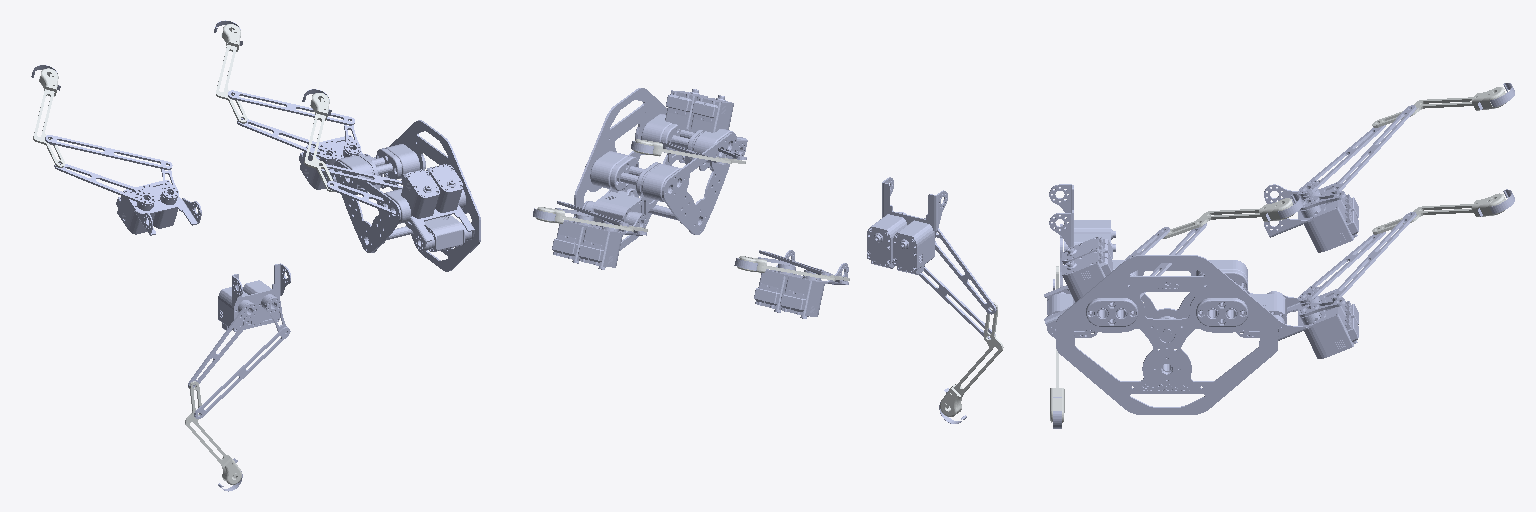
--- What the picture shows (computed from the rendered views, not written in the file) ---
The picture shows the robot from 3 angles, left to right: view 1: azimuth 30°, elevation 25°; view 2: azimuth 150°, elevation 25°; view 3: azimuth 270°, elevation 25°; orthographic projection.
Robot: stoch_two__abduction_spring_urdf — 27 links, 26 joints (11 revolute, 11 continuous, 4 prismatic); root link base_link; default pose: joints at zero except 3 at the middle of their limits (motor_front_left_abd_joint = -1.99, motor_front_right_abd_joint = -1.99, motor_back_left_abd_joint = -1.99).
Links seen in each view (by area): view 1: front_body_link, front_right_abd_link, back_left_abd_link, back_right_abd_link, br_lower_hip_link, front_left_abd_link, br_lower_knee_link, bl_lower_knee_link, bl_lower_hip_link, fr_lower_hip_link, fl_lower_hip_link, br_upper_hip_link (+5 smaller); view 2: front_body_link, back_right_abd_link, back_left_abd_link, front_left_abd_link, front_right_abd_link, br_lower_hip_link, br_upper_hip_link, br_lower_knee_link, fl_lower_hip_link, fr_lower_hip_link, bl_lower_hip_link; view 3: front_body_link, back_left_abd_link, front_left_abd_link, front_right_abd_link, back_right_abd_link, fr_lower_hip_link, bl_lower_hip_link, fl_lower_hip_link, fl_lower_knee_link, bl_lower_knee_link, fl_upper_hip_link, bl_upper_hip_link (+1 smaller).
Boxes of the visible links, <box> form: front_body_link: <box>331,120,480,271</box>; front_right_abd_link: <box>401,164,474,251</box>; back_left_abd_link: <box>116,180,201,235</box>; back_right_abd_link: <box>218,263,290,331</box>; br_lower_hip_link: <box>185,381,241,484</box>; front_left_abd_link: <box>299,135,372,189</box>; br_lower_knee_link: <box>194,327,290,418</box>; bl_lower_knee_link: <box>45,135,172,169</box>; bl_lower_hip_link: <box>33,68,64,167</box>; fr_lower_hip_link: <box>304,93,334,191</box>; fl_lower_hip_link: <box>216,24,247,123</box>; br_upper_hip_link: <box>188,303,257,387</box>; front_body_link: <box>574,88,741,250</box>; back_right_abd_link: <box>867,177,947,274</box>; back_left_abd_link: <box>754,250,848,318</box>; front_left_abd_link: <box>552,201,646,269</box>; front_right_abd_link: <box>665,89,747,159</box>; br_lower_hip_link: <box>940,302,1003,416</box>; br_upper_hip_link: <box>924,218,996,314</box>; br_lower_knee_link: <box>919,267,995,338</box>; fl_lower_hip_link: <box>535,207,647,231</box>; fr_lower_hip_link: <box>633,139,745,163</box>; bl_lower_hip_link: <box>737,256,849,280</box>; front_body_link: <box>1047,255,1286,414</box>; back_left_abd_link: <box>1264,182,1358,252</box>; front_left_abd_link: <box>1267,289,1358,358</box>; front_right_abd_link: <box>1044,237,1112,338</box>; back_right_abd_link: <box>1049,184,1115,251</box>; fr_lower_hip_link: <box>1163,198,1293,238</box>; bl_lower_hip_link: <box>1372,87,1505,127</box>; fl_lower_hip_link: <box>1372,193,1505,234</box>; fl_lower_knee_link: <box>1331,212,1416,300</box>; bl_lower_knee_link: <box>1331,105,1416,193</box>; fl_upper_hip_link: <box>1298,232,1385,302</box>; bl_upper_hip_link: <box>1298,125,1385,196</box>.
Size in the robot's own frame: 0.4437 by 0.5057 by 0.4049 metres.
Meshes: 27 distinct files referenced, 25 mesh visuals loaded (25 binary STL); not drawn: 2 (reference not matched to a file when rendering).

The robot description file, URDF, robot "stoch_two__abduction_spring_urdf":
<?xml version="1.0" encoding="utf-8"?>
<!-- This URDF was automatically created by SolidWorks to URDF Exporter! Originally created by Stephen Brawner ([email redacted]) 
     Commit Version: 1.5.1-0-g916b5db  Build Version: 1.5.7152.31018
     For more information, please see http://wiki.ros.org/sw_urdf_exporter -->
<robot
  name="stoch_two__abduction_spring_urdf">
  <link
    name="base_link">
    <inertial>
      <origin
        xyz="-0.000129067991736851 -0.000342158297660957 0.0093408485666523"
        rpy="0 0 0" />
      <mass
        value="0.259739448171724" />
      <inertia
        ixx="5.74948095182276E-05"
        ixy="7.54633920037895E-09"
        ixz="1.07903151513999E-08"
        iyy="0.000116396536611965"
        iyz="-1.12033093129272E-06"
        izz="0.0001141289931923" />
    </inertial>
    <visual>
      <origin
        xyz="0 0 0"
        rpy="0 0 0" />
      <geometry>
        <mesh
          filename="package://stoch_two__abduction_spring_urdf/meshes/base_link.STL" />
      </geometry>
      <material
        name="">
        <color
          rgba="0.501960784313725 0.501960784313725 0.501960784313725 1" />
      </material>
    </visual>
    <collision>
      <origin
        xyz="0 0 0"
        rpy="0 0 0" />
      <geometry>
        <mesh
          filename="package://stoch_two__abduction_spring_urdf/meshes/base_link.STL" />
      </geometry>
    </collision>
  </link>
  <link
    name="front_body_link">
    <inertial>
      <origin
        xyz="0.140932267535982 3.08694714012441E-07 0.0200437153813344"
        rpy="0 0 0" />
      <mass
        value="0.418808537136945" />
      <inertia
        ixx="0.000463777908240491"
        ixy="-3.33113572867368E-11"
        ixz="-4.80950874454111E-09"
        iyy="0.000201821646265994"
        iyz="1.27241620570117E-08"
        izz="0.000326752262396329" />
    </inertial>
    <visual>
      <origin
        xyz="0 0 0"
        rpy="0 0 0" />
      <geometry>
        <mesh
          filename="package://stoch_two__abduction_spring_urdf/meshes/front_body_link.STL" />
      </geometry>
      <material
        name="">
        <color
          rgba="0.792156862745098 0.819607843137255 0.933333333333333 1" />
      </material>
    </visual>
    <collision>
      <origin
        xyz="0 0 0"
        rpy="0 0 0" />
      <geometry>
        <mesh
          filename="package://stoch_two__abduction_spring_urdf/meshes/front_body_link.STL" />
      </geometry>
    </collision>
  </link>
  <joint
    name="motor_front_body_spine_joint"
    type="continuous">
    <origin
      xyz="0 0 0"
      rpy="0 0 0" />
    <parent
      link="base_link" />
    <child
      link="front_body_link" />
    <axis
      xyz="-1 0 0" />
    <limit
      lower="0"
      upper="0"
      effort="0"
      velocity="0" />
  </joint>
  <link
    name="front_left_abd_link">
    <inertial>
      <origin
        xyz="-0.00110882035358037 -0.0327154340942827 -0.0480929598391266"
        rpy="0 0 0" />
      <mass
        value="0.124373484679103" />
      <inertia
        ixx="3.84547212168369E-05"
        ixy="-7.54990169891938E-09"
        ixz="-1.07962338546307E-08"
        iyy="3.84649558618675E-05"
        iyz="-1.6180589577321E-06"
        izz="2.92738421633406E-05" />
    </inertial>
    <visual>
      <origin
        xyz="0 0 0"
        rpy="0 0 0" />
      <geometry>
        <mesh
          filename="package://stoch_two__abduction_spring_urdf/meshes/front_left_abd_link.STL" />
      </geometry>
      <material
        name="">
        <color
          rgba="0.792156862745098 0.819607843137255 0.933333333333333 1" />
      </material>
    </visual>
    <collision>
      <origin
        xyz="0 0 0"
        rpy="0 0 0" />
      <geometry>
        <mesh
          filename="package://stoch_two__abduction_spring_urdf/meshes/front_left_abd_link.STL" />
      </geometry>
    </collision>
  </link>
  <joint
    name="motor_front_left_abd_joint"
    type="revolute">
    <origin
      xyz="0.135197356097679 0.115117519222437 0.00739293061201084"
      rpy="0 0 0" />
    <parent
      link="front_body_link" />
    <child
      link="front_left_abd_link" />
    <axis
      xyz="-1 0 0" />
    <limit
      lower="-0.06"
      upper="-3.92"
      effort="100"
      velocity="100" />
  </joint>
  <link
    name="fl_upper_hip_link">
    <inertial>
      <origin
        xyz="-0.0383446494113472 -5.55111512312578E-17 -0.0383318704358328"
        rpy="0 0 0" />
      <mass
        value="0.0117074826445671" />
      <inertia
        ixx="9.72918703579988E-06"
        ixy="-1.04141895101897E-20"
        ixz="-9.27307252501739E-06"
        iyy="1.94470211761586E-05"
        iyz="-1.02230524891218E-20"
        izz="9.73539536432561E-06" />
    </inertial>
    <visual>
      <origin
        xyz="0 0 0"
        rpy="0 0 0" />
      <geometry>
        <mesh
          filename="package://stoch_two__abduction_spring_urdf/meshes/fl_upper_hip_link.STL" />
      </geometry>
      <material
        name="">
        <color
          rgba="0.792156862745098 0.819607843137255 0.933333333333333 1" />
      </material>
    </visual>
    <collision>
      <origin
        xyz="0 0 0"
        rpy="0 0 0" />
      <geometry>
        <mesh
          filename="package://stoch_two__abduction_spring_urdf/meshes/fl_upper_hip_link.STL" />
      </geometry>
    </collision>
  </link>
  <joint
    name="motor_fl_upper_hip_joint"
    type="revolute">
    <origin
      xyz="-0.0186499999340881 -0.00149999933174336 -0.0384999947870973"
      rpy="0 0 0" />
    <parent
      link="front_left_abd_link" />
    <child
      link="fl_upper_hip_link" />
    <axis
      xyz="0 -1 0" />
    <limit
      lower="-0.78"
      upper="0.78"
      effort="100"
      velocity="100" />
  </joint>
  <link
    name="fl_lower_hip_link">
    <inertial>
      <origin
        xyz="0.0408620276127472 0.000114318215220024 -0.10942942192865"
        rpy="0 0 0" />
      <mass
        value="0.0304267158746561" />
      <inertia
        ixx="2.23503755194058E-05"
        ixy="-3.16887576759191E-11"
        ixz="9.84049282914086E-06"
        iyy="2.83096143283062E-05"
        iyz="2.31897934032399E-09"
        izz="6.72397413422221E-06" />
    </inertial>
    <visual>
      <origin
        xyz="0 0 0"
        rpy="0 0 0" />
      <geometry>
        <mesh
          filename="package://stoch_two__abduction_spring_urdf/meshes/fl_lower_hip_link.STL" />
      </geometry>
      <material
        name="">
        <color
          rgba="0.898039215686275 0.917647058823529 0.929411764705882 1" />
      </material>
    </visual>
    <collision>
      <origin
        xyz="0 0 0"
        rpy="0 0 0" />
      <geometry>
        <mesh
          filename="package://stoch_two__abduction_spring_urdf/meshes/fl_lower_hip_link.STL" />
      </geometry>
    </collision>
  </link>
  <joint
    name="fl_lower_hip_joint"
    type="continuous">
    <origin
      xyz="-0.0848672347682571 0.00450000000000043 -0.0848383902651951"
      rpy="0 0 0" />
    <parent
      link="fl_upper_hip_link" />
    <child
      link="fl_lower_hip_link" />
    <axis
      xyz="0 -1 0" />
  </joint>
  <link
    name="spring_fl">
    <inertial>
      <origin
        xyz="0.0008375 5.5511E-17 -0.021195"
        rpy="0 0 0" />
      <mass
        value="0.02" />
      <inertia
        ixx="3.8646E-08"
        ixy="-5.4205E-23"
        ixz="-1.0551E-08"
        iyy="5.6208E-08"
        iyz="3.4007E-23"
        izz="2.0559E-08" />
    </inertial>
    <visual>
      <origin
        xyz="0 0 0"
        rpy="0 0 0" />
      <geometry>
        <mesh
          filename="package://stoch_two__abduction_spring_urdf/meshes/spring_fl.STL" />
      </geometry>
      <material
        name="">
        <color
          rgba="0.79216 0.81961 0.93333 1" />
      </material>
    </visual>
    <collision>
      <origin
        xyz="0 0 0"
        rpy="0 0 0" />
      <geometry>
        <mesh
          filename="package://stoch_two__abduction_spring_urdf/meshes/spring_fl.STL" />
      </geometry>
    </collision>
  </link>
  <joint
    name="prismatic_fl"
    type="prismatic">
    <origin
      xyz="0.059295 0.0002 -0.12141"
      rpy="0 0 0" />
    <parent
      link="fl_lower_hip_link" />
    <child
      link="spring_fl" />
    <axis
      xyz="-0.54606 0 0.83775" />
    <limit
      lower="-0.001"
      upper="0.001"
      effort="100"
      velocity="100" />
    <dynamics
      damping="500" />
  </joint>
  <link
    name="fl_upper_knee_link">
    <inertial>
      <origin
        xyz="0.00500741448929856 1.38777878078145E-17 -0.0137551107327415"
        rpy="0 0 0" />
      <mass
        value="0.00159686614944862" />
      <inertia
        ixx="4.10803441978608E-07"
        ixy="-6.34539643451113E-23"
        ixz="1.31607832982323E-07"
        iyy="5.05602172304821E-07"
        iyz="1.69033138911796E-23"
        izz="9.71940295503859E-08" />
    </inertial>
    <visual>
      <origin
        xyz="0 0 0"
        rpy="0 0 0" />
      <geometry>
        <mesh
          filename="package://stoch_two__abduction_spring_urdf/meshes/fl_upper_knee_link.STL" />
      </geometry>
      <material
        name="">
        <color
          rgba="0.792156862745098 0.819607843137255 0.933333333333333 1" />
      </material>
    </visual>
    <collision>
      <origin
        xyz="0 0 0"
        rpy="0 0 0" />
      <geometry>
        <mesh
          filename="package://stoch_two__abduction_spring_urdf/meshes/fl_upper_knee_link.STL" />
      </geometry>
    </collision>
  </link>
  <joint
    name="motor_fl_upper_knee_joint"
    type="revolute">
    <origin
      xyz="0.0163500000000081 -0.00149999933174279 -0.0384999938972361"
      rpy="0 0 0" />
    <parent
      link="front_left_abd_link" />
    <child
      link="fl_upper_knee_link" />
    <axis
      xyz="0 -1 0" />
    <limit
      lower="-1.22"
      upper="1.22"
      effort="100"
      velocity="100" />
  </joint>
  <link
    name="fl_lower_knee_link">
    <inertial>
      <origin
        xyz="-0.0641706601867951 -5.55111512312578E-17 -0.0434554527210436"
        rpy="0 0 0" />
      <mass
        value="0.0317424901804665" />
      <inertia
        ixx="2.47046438626632E-05"
        ixy="-5.72073776083319E-20"
        ixz="-3.54901292302268E-05"
        iyy="7.77365346235803E-05"
        iyz="-3.85353720585192E-20"
        izz="5.30795044961879E-05" />
    </inertial>
    <visual>
      <origin
        xyz="0 0 0"
        rpy="0 0 0" />
      <geometry>
        <mesh
          filename="package://stoch_two__abduction_spring_urdf/meshes/fl_lower_knee_link.STL" />
      </geometry>
      <material
        name="">
        <color
          rgba="0.792156862745098 0.819607843137255 0.933333333333333 1" />
      </material>
    </visual>
    <collision>
      <origin
        xyz="0 0 0"
        rpy="0 0 0" />
      <geometry>
        <mesh
          filename="package://stoch_two__abduction_spring_urdf/meshes/fl_lower_knee_link.STL" />
      </geometry>
    </collision>
  </link>
  <joint
    name="fl_lower_knee_joint"
    type="continuous">
    <origin
      xyz="0.0136831308327143 0.00800000000000324 -0.0375868584829169"
      rpy="0 0 0" />
    <parent
      link="fl_upper_knee_link" />
    <child
      link="fl_lower_knee_link" />
    <axis
      xyz="0 1 0" />
  </joint>
  <link
    name="front_right_abd_link">
    <inertial>
      <origin
        xyz="-0.00119117964642199 0.0327154156421657 -0.0480929723912521"
        rpy="0 0 0" />
      <mass
        value="0.124373484679129" />
      <inertia
        ixx="3.84547212168473E-05"
        ixy="-7.5498975598577E-09"
        ixz="1.07962367477864E-08"
        iyy="3.84649571034963E-05"
        iyz="1.61805543131316E-06"
        izz="2.92738409217309E-05" />
    </inertial>
    <visual>
      <origin
        xyz="0 0 0"
        rpy="0 0 0" />
      <geometry>
        <mesh
          filename="package://stoch_two__abduction_spring_urdf/meshes/front_right_abd_link.STL" />
      </geometry>
      <material
        name="">
        <color
          rgba="0.792156862745098 0.819607843137255 0.933333333333333 1" />
      </material>
    </visual>
    <collision>
      <origin
        xyz="0 0 0"
        rpy="0 0 0" />
      <geometry>
        <mesh
          filename="package://stoch_two__abduction_spring_urdf/meshes/front_right_abd_link.STL" />
      </geometry>
    </collision>
  </link>
  <joint
    name="motor_front_right_abd_joint"
    type="revolute">
    <origin
      xyz="0.135197356230924 -0.115117528861792 0.00739294578802131"
      rpy="0 0 0" />
    <parent
      link="front_body_link" />
    <child
      link="front_right_abd_link" />
    <axis
      xyz="-1 0 0" />
    <limit
      lower="-0.06"
      upper="-3.92"
      effort="100"
      velocity="100" />
  </joint>
  <link
    name="fr_upper_hip_link">
    <inertial>
      <origin
        xyz="-0.0383446477630624 -1.47070194772558E-08 -0.0383318720846643"
        rpy="0 0 0" />
      <mass
        value="0.0117074826445671" />
      <inertia
        ixx="9.72918783329113E-06"
        ixy="-3.55785541198547E-12"
        ixz="-9.27307252528368E-06"
        iyy="1.94470211761573E-05"
        iyz="-3.72611807838062E-12"
        izz="9.73539456683589E-06" />
    </inertial>
    <visual>
      <origin
        xyz="0 0 0"
        rpy="0 0 0" />
      <geometry>
        <mesh
          filename="package://stoch_two__abduction_spring_urdf/meshes/fr_upper_hip_link.STL" />
      </geometry>
      <material
        name="">
        <color
          rgba="0.792156862745098 0.819607843137255 0.933333333333333 1" />
      </material>
    </visual>
    <collision>
      <origin
        xyz="0 0 0"
        rpy="0 0 0" />
      <geometry>
        <mesh
          filename="package://stoch_two__abduction_spring_urdf/meshes/fr_upper_hip_link.STL" />
      </geometry>
    </collision>
  </link>
  <joint
    name="motor_fr_upper_hip_joint"
    type="revolute">
    <origin
      xyz="-0.0186500000000073 0.00149998633962198 -0.0384999944727477"
      rpy="0 0 0" />
    <parent
      link="front_right_abd_link" />
    <child
      link="fr_upper_hip_link" />
    <axis
      xyz="0 -0.999999999999926 0" />
    <limit
      lower="-0.78"
      upper="0.78"
      effort="100"
      velocity="100" />
  </joint>
  <link
    name="fr_lower_hip_link">
    <inertial>
      <origin
        xyz="0.0408624005500485 0.000114276229826876 -0.109429282713292"
        rpy="0 0 0" />
      <mass
        value="0.0304267158746472" />
      <inertia
        ixx="2.23503084460548E-05"
        ixy="-2.79210797378881E-11"
        ixz="9.84054608399388E-06"
        iyy="2.83096143300881E-05"
        iyz="2.31069736774626E-09"
        izz="6.72404120579568E-06" />
    </inertial>
    <visual>
      <origin
        xyz="0 0 0"
        rpy="0 0 0" />
      <geometry>
        <mesh
          filename="package://stoch_two__abduction_spring_urdf/meshes/fr_lower_hip_link.STL" />
      </geometry>
      <material
        name="">
        <color
          rgba="0.898039215686275 0.917647058823529 0.929411764705882 1" />
      </material>
    </visual>
    <collision>
      <origin
        xyz="0 0 0"
        rpy="0 0 0" />
      <geometry>
        <mesh
          filename="package://stoch_two__abduction_spring_urdf/meshes/fr_lower_hip_link.STL" />
      </geometry>
    </collision>
  </link>
  <joint
    name="fr_lower_hip_joint"
    type="continuous">
    <origin
      xyz="-0.0848672311201743 -0.00450003255045557 -0.0848383921879697"
      rpy="0 0 0" />
    <parent
      link="fr_upper_hip_link" />
    <child
      link="fr_lower_hip_link" />
    <axis
      xyz="0 -0.999999999999926 0" />
  </joint>
  <link
    name="spring_fr">
    <inertial>
      <origin
        xyz="0.00083757 -8.1321E-09 -0.021195"
        rpy="0 0 0" />
      <mass
        value="0.02" />
      <inertia
        ixx="3.8646E-08"
        ixy="-4.0482E-15"
        ixz="-1.0551E-08"
        iyy="5.6208E-08"
        iyz="-1.3678E-14"
        izz="2.0559E-08" />
    </inertial>
    <visual>
      <origin
        xyz="0 0 0"
        rpy="0 0 0" />
      <geometry>
        <mesh
          filename="package://stoch_two__abduction_spring_urdf/meshes/spring_fr.STL" />
      </geometry>
      <material
        name="">
        <color
          rgba="0.79216 0.81961 0.93333 1" />
      </material>
    </visual>
    <collision>
      <origin
        xyz="0 0 0"
        rpy="0 0 0" />
      <geometry>
        <mesh
          filename="package://stoch_two__abduction_spring_urdf/meshes/spring_fr.STL" />
      </geometry>
    </collision>
  </link>
  <joint
    name="prismatic_fr"
    type="prismatic">
    <origin
      xyz="0.059295 0.00019995 -0.12141"
      rpy="0 0 0" />
    <parent
      link="fr_lower_hip_link" />
    <child
      link="spring_fr" />
    <axis
      xyz="-0.54606 0 0.83774" />
    <limit
      lower="-0.001"
      upper="0.001"
      effort="100"
      velocity="100" />
    <dynamics
      damping="500" />
  </joint>
  <link
    name="fr_upper_knee_link">
    <inertial>
      <origin
        xyz="0.00500745839832759 -5.2774995346061E-09 -0.0137550947480056"
        rpy="0 0 0" />
      <mass
        value="0.00159686614944863" />
      <inertia
        ixx="4.10802601738561E-07"
        ixy="5.04951484061588E-14"
        ixz="1.31608834083366E-07"
        iyy="5.05602172304777E-07"
        iyz="-1.56696074365953E-13"
        izz="9.7194869790509E-08" />
    </inertial>
    <visual>
      <origin
        xyz="0 0 0"
        rpy="0 0 0" />
      <geometry>
        <mesh
          filename="package://stoch_two__abduction_spring_urdf/meshes/fr_upper_knee_link.STL" />
      </geometry>
      <material
        name="">
        <color
          rgba="0.792156862745098 0.819607843137255 0.933333333333333 1" />
      </material>
    </visual>
    <collision>
      <origin
        xyz="0 0 0"
        rpy="0 0 0" />
      <geometry>
        <mesh
          filename="package://stoch_two__abduction_spring_urdf/meshes/fr_upper_knee_link.STL" />
      </geometry>
    </collision>
  </link>
  <joint
    name="motor_fr_upper_knee_joint"
    type="revolute">
    <origin
      xyz="0.0163499999340886 0.00149998522847775 -0.0384999953626084"
      rpy="0 0 0" />
    <parent
      link="front_right_abd_link" />
    <child
      link="fr_upper_knee_link" />
    <axis
      xyz="0 -0.999999999999926 0" />
    <limit
      lower="-1.22"
      upper="1.22"
      effort="100"
      velocity="100" />
  </joint>
  <link
    name="fr_lower_knee_link">
    <inertial>
      <origin
        xyz="-0.0641706507751588 -1.66728200134969E-08 -0.0434554666191993"
        rpy="0 0 0" />
      <mass
        value="0.0317424901804665" />
      <inertia
        ixx="2.47046592356554E-05"
        ixy="-1.36167135359111E-11"
        ixz="-3.54901353756828E-05"
        iyy="7.77365346235767E-05"
        iyz="-9.46031681848094E-12"
        izz="5.30794891231993E-05" />
    </inertial>
    <visual>
      <origin
        xyz="0 0 0"
        rpy="0 0 0" />
      <geometry>
        <mesh
          filename="package://stoch_two__abduction_spring_urdf/meshes/fr_lower_knee_link.STL" />
      </geometry>
      <material
        name="">
        <color
          rgba="0.792156862745098 0.819607843137255 0.933333333333333 1" />
      </material>
    </visual>
    <collision>
      <origin
        xyz="0 0 0"
        rpy="0 0 0" />
      <geometry>
        <mesh
          filename="package://stoch_two__abduction_spring_urdf/meshes/fr_lower_knee_link.STL" />
      </geometry>
    </collision>
  </link>
  <joint
    name="fr_lower_knee_joint"
    type="continuous">
    <origin
      xyz="0.0136832508173868 -0.00800001442115761 -0.0375868117340345"
      rpy="0 0 0" />
    <parent
      link="fr_upper_knee_link" />
    <child
      link="fr_lower_knee_link" />
    <axis
      xyz="0 0.999999999999926 0" />
  </joint>
  <link
    name="back_body_link">
    <inertial>
      <origin
        xyz="-0.140956896502492 -3.14350248021398E-07 0.0195799916260589"
        rpy="0 0 0" />
      <mass
        value="0.422530260961795" />
      <inertia
        ixx="0.000464409562979019"
        ixy="-3.33117865270045E-11"
        ixz="4.80907890030873E-09"
        iyy="0.00020214515751904"
        iyz="8.84527093913057E-09"
        izz="0.000327075773659621" />
    </inertial>
    <visual>
      <origin
        xyz="0 0 0"
        rpy="0 0 0" />
      <geometry>
        <mesh
          filename="package://stoch_two__abduction_spring_urdf/meshes/back_body_link.STL" />
      </geometry>
      <material
        name="">
        <color
          rgba="0.792156862745098 0.819607843137255 0.933333333333333 1" />
      </material>
    </visual>
    <collision>
      <origin
        xyz="0 0 0"
        rpy="0 0 0" />
      <geometry>
        <mesh
          filename="package://stoch_two__abduction_spring_urdf/meshes/back_body_link.STL" />
      </geometry>
    </collision>
  </link>
  <joint
    name="motor_back_body_spine_joint"
    type="continuous">
    <origin
      xyz="0 0 0"
      rpy="0 0 0" />
    <parent
      link="base_link" />
    <child
      link="back_body_link" />
    <axis
      xyz="-1 0 0" />
    <limit
      lower="0"
      upper="0"
      effort="0"
      velocity="0" />
  </joint>
  <link
    name="back_left_abd_link">
    <inertial>
      <origin
        xyz="-0.00140882033464229 -0.0327154464911706 -0.0480929514066434"
        rpy="0 0 0" />
      <mass
        value="0.124373484679103" />
      <inertia
        ixx="3.84547212168457E-05"
        ixy="-7.54990448759607E-09"
        ixz="-1.07962309723074E-08"
        iyy="3.8464955027741E-05"
        iyz="-1.61806132676973E-06"
        izz="2.92738429974584E-05" />
    </inertial>
    <visual>
      <origin
        xyz="0 0 0"
        rpy="0 0 0" />
      <geometry>
        <mesh
          filename="package://stoch_two__abduction_spring_urdf/meshes/back_left_abd_link.STL" />
      </geometry>
      <material
        name="">
        <color
          rgba="0.792156862745098 0.819607843137255 0.933333333333333 1" />
      </material>
    </visual>
    <collision>
      <origin
        xyz="0 0 0"
        rpy="0 0 0" />
      <geometry>
        <mesh
          filename="package://stoch_two__abduction_spring_urdf/meshes/back_left_abd_link.STL" />
      </geometry>
    </collision>
  </link>
  <joint
    name="motor_back_left_abd_joint"
    type="revolute">
    <origin
      xyz="-0.13530264390232 0.115117522545566 0.00739298969795425"
      rpy="0 0 0" />
    <parent
      link="back_body_link" />
    <child
      link="back_left_abd_link" />
    <axis
      xyz="-1 0 0" />
    <limit
      lower="-0.06"
      upper="-3.92"
      effort="100"
      velocity="100" />
  </joint>
  <link
    name="bl_upper_hip_link">
    <inertial>
      <origin
        xyz="-0.0383381336713793 -9.90399671996212E-09 -0.0383383872402577"
        rpy="0 0 0" />
      <mass
        value="0.0117074826445671" />
      <inertia
        ixx="9.73233928457207E-06"
        ixy="-2.39577849174437E-12"
        ixz="-9.27307304445245E-06"
        iyy="1.9447021176158E-05"
        iyz="-2.50937347050737E-12"
        izz="9.7322431155541E-06" />
    </inertial>
    <visual>
      <origin
        xyz="0 0 0"
        rpy="0 0 0" />
      <geometry>
        <mesh
          filename="package://stoch_two__abduction_spring_urdf/meshes/bl_upper_hip_link.STL" />
      </geometry>
      <material
        name="">
        <color
          rgba="0.792156862745098 0.819607843137255 0.933333333333333 1" />
      </material>
    </visual>
    <collision>
      <origin
        xyz="0 0 0"
        rpy="0 0 0" />
      <geometry>
        <mesh
          filename="package://stoch_two__abduction_spring_urdf/meshes/bl_upper_hip_link.STL" />
      </geometry>
    </collision>
  </link>
  <joint
    name="motor_bl_upper_hip_joint"
    type="revolute">
    <origin
      xyz="-0.01895 -0.0015 -0.0385"
      rpy="0 0 0" />
    <parent
      link="back_left_abd_link" />
    <child
      link="bl_upper_hip_link" />
    <axis
      xyz="0 -1 0" />
    <limit
      lower="-0.78"
      upper="0.78"
      effort="100"
      velocity="100" />
  </joint>
  <link
    name="bl_lower_hip_link">
    <inertial>
      <origin
        xyz="0.0408428937519842 0.000114290031589581 -0.109436564825589"
        rpy="0 0 0" />
      <mass
        value="0.030426715875105" />
      <inertia
        ixx="2.23538161722701E-05"
        ixy="-2.8751028169547E-11"
        ixz="9.83776002245928E-06"
        iyy="2.83096143292105E-05"
        iyz="2.31342582708908E-09"
        izz="6.72053348022394E-06" />
    </inertial>
    <visual>
      <origin
        xyz="0 0 0"
        rpy="0 0 0" />
      <geometry>
        <mesh
          filename="package://stoch_two__abduction_spring_urdf/meshes/bl_lower_hip_link.STL" />
      </geometry>
      <material
        name="">
        <color
          rgba="0.898039215686275 0.917647058823529 0.929411764705882 1" />
      </material>
    </visual>
    <collision>
      <origin
        xyz="0 0 0"
        rpy="0 0 0" />
      <geometry>
        <mesh
          filename="package://stoch_two__abduction_spring_urdf/meshes/bl_lower_hip_link.STL" />
      </geometry>
    </collision>
  </link>
  <joint
    name="bl_lower_hip_joint"
    type="continuous">
    <origin
      xyz="-0.0848528137451117 0.00449997807988266 -0.0848528149021467"
      rpy="0 0 0" />
    <parent
      link="bl_upper_hip_link" />
    <child
      link="bl_lower_hip_link" />
    <axis
      xyz="0 -0.999999999999967 0" />
  </joint>
  <link
    name="spring_bl">
    <inertial>
      <origin
        xyz="0.00083379 -5.4632E-09 -0.021195"
        rpy="0 0 0" />
      <mass
        value="0.02" />
      <inertia
        ixx="3.8642E-08"
        ixy="-2.7204E-15"
        ixz="-1.0554E-08"
        iyy="5.6208E-08"
        iyz="-9.1877E-15"
        izz="2.0563E-08" />
    </inertial>
    <visual>
      <origin
        xyz="0 0 0"
        rpy="0 0 0" />
      <geometry>
        <mesh
          filename="package://stoch_two__abduction_spring_urdf/meshes/spring_bl.STL" />
      </geometry>
      <material
        name="">
        <color
          rgba="0.79216 0.81961 0.93333 1" />
      </material>
    </visual>
    <collision>
      <origin
        xyz="0 0 0"
        rpy="0 0 0" />
      <geometry>
        <mesh
          filename="package://stoch_two__abduction_spring_urdf/meshes/spring_bl.STL" />
      </geometry>
    </collision>
  </link>
  <joint
    name="prismatic_bl"
    type="prismatic">
    <origin
      xyz="0.059274 0.00019997 -0.12142"
      rpy="0 0 0" />
    <parent
      link="bl_lower_hip_link" />
    <child
      link="spring_bl" />
    <axis
      xyz="-0.54591 0 0.83784" />
    <limit
      lower="-0.001"
      upper="0.001"
      effort="100"
      velocity="100" />
    <dynamics
      damping="500" />
  </joint>
  <link
    name="bl_upper_knee_link">
    <inertial>
      <origin
        xyz="0.00500656360670479 -3.54259542534319E-09 -0.013755420458482"
        rpy="0 0 0" />
      <mass
        value="0.00159686614944863" />
      <inertia
        ixx="4.10819722952596E-07"
        ixy="3.38623857879335E-14"
        ixz="1.31588432510409E-07"
        iyy="5.05602172304798E-07"
        iyz="-1.05196227990405E-13"
        izz="9.71777485764293E-08" />
    </inertial>
    <visual>
      <origin
        xyz="0 0 0"
        rpy="0 0 0" />
      <geometry>
        <mesh
          filename="package://stoch_two__abduction_spring_urdf/meshes/bl_upper_knee_link.STL" />
      </geometry>
      <material
        name="">
        <color
          rgba="0.792156862745098 0.819607843137255 0.933333333333333 1" />
      </material>
    </visual>
    <collision>
      <origin
        xyz="0 0 0"
        rpy="0 0 0" />
      <geometry>
        <mesh
          filename="package://stoch_two__abduction_spring_urdf/meshes/bl_upper_knee_link.STL" />
      </geometry>
    </collision>
  </link>
  <joint
    name="motor_bl_upper_knee_joint"
    type="revolute">
    <origin
      xyz="0.0160500000008828 -0.00150000924591775 -0.0384999935106098"
      rpy="0 0 0" />
    <parent
      link="back_left_abd_link" />
    <child
      link="bl_upper_knee_link" />
    <axis
      xyz="0 -0.999999999999967 0" />
    <limit
      lower="-1.22"
      upper="1.22"
      effort="100"
      velocity="100" />
  </joint>
  <link
    name="bl_lower_knee_link">
    <inertial>
      <origin
        xyz="-0.0641657542942606 -1.12397455370727E-08 -0.043462696371123"
        rpy="0 0 0" />
      <mass
        value="0.0317424901804665" />
      <inertia
        ixx="2.47126568549893E-05"
        ixy="-9.17917504560525E-12"
        ixz="-3.54933314315602E-05"
        iyy="7.77365346235786E-05"
        iyz="-6.37801322514159E-12"
        izz="5.30714915038632E-05" />
    </inertial>
    <visual>
      <origin
        xyz="0 0 0"
        rpy="0 0 0" />
      <geometry>
        <mesh
          filename="package://stoch_two__abduction_spring_urdf/meshes/bl_lower_knee_link.STL" />
      </geometry>
      <material
        name="">
        <color
          rgba="0.792156862745098 0.819607843137255 0.933333333333333 1" />
      </material>
    </visual>
    <collision>
      <origin
        xyz="0 0 0"
        rpy="0 0 0" />
      <geometry>
        <mesh
          filename="package://stoch_two__abduction_spring_urdf/meshes/bl_lower_knee_link.STL" />
      </geometry>
    </collision>
  </link>
  <joint
    name="bl_lower_knee_joint"
    type="continuous">
    <origin
      xyz="0.0136808057283992 0.00799999031959546 -0.0375877068934536"
      rpy="0 0 0" />
    <parent
      link="bl_upper_knee_link" />
    <child
      link="bl_lower_knee_link" />
    <axis
      xyz="0 0.999999999999967 0" />
  </joint>
  <link
    name="back_right_abd_link">
    <inertial>
      <origin
        xyz="-0.00149117964641937 0.0327154464903576 -0.0480929514066434"
        rpy="0 0 0" />
      <mass
        value="0.124373484679103" />
      <inertia
        ixx="3.84547212168368E-05"
        ixy="-7.54990448164978E-09"
        ixz="1.07962319086228E-08"
        iyy="3.84649550277497E-05"
        iyz="1.61806132676348E-06"
        izz="2.92738429974583E-05" />
    </inertial>
    <visual>
      <origin
        xyz="0 0 0"
        rpy="0 0 0" />
      <geometry>
        <mesh
          filename="package://stoch_two__abduction_spring_urdf/meshes/back_right_abd_link.STL" />
      </geometry>
      <material
        name="">
        <color
          rgba="0.792156862745098 0.819607843137255 0.933333333333333 1" />
      </material>
    </visual>
    <collision>
      <origin
        xyz="0 0 0"
        rpy="0 0 0" />
      <geometry>
        <mesh
          filename="package://stoch_two__abduction_spring_urdf/meshes/back_right_abd_link.STL" />
      </geometry>
    </collision>
  </link>
  <joint
    name="motor_back_right_abd_joint"
    type="continuous">
    <origin
      xyz="-0.135302643769077 -0.115117525538681 0.00739294553027791"
      rpy="0 0 0" />
    <parent
      link="back_body_link" />
    <child
      link="back_right_abd_link" />
    <axis
      xyz="-1 0 0" />
    <limit
      lower="-0.06"
      upper="-3.92"
      effort="100"
      velocity="100" />
  </joint>
  <link
    name="br_upper_hip_link">
    <inertial>
      <origin
        xyz="-0.0383381336713765 9.90399669220654E-09 -0.0383383872402605"
        rpy="0 0 0" />
      <mass
        value="0.0117074826445671" />
      <inertia
        ixx="9.73233928457343E-06"
        ixy="2.39577849110562E-12"
        ixz="-9.27307304445247E-06"
        iyy="1.94470211761581E-05"
        iyz="2.5093734701317E-12"
        izz="9.73224311555278E-06" />
    </inertial>
    <visual>
      <origin
        xyz="0 0 0"
        rpy="0 0 0" />
      <geometry>
        <mesh
          filename="package://stoch_two__abduction_spring_urdf/meshes/br_upper_hip_link.STL" />
      </geometry>
      <material
        name="">
        <color
          rgba="0.792156862745098 0.819607843137255 0.933333333333333 1" />
      </material>
    </visual>
    <collision>
      <origin
        xyz="0 0 0"
        rpy="0 0 0" />
      <geometry>
        <mesh
          filename="package://stoch_two__abduction_spring_urdf/meshes/br_upper_hip_link.STL" />
      </geometry>
    </collision>
  </link>
  <joint
    name="motor_br_upper_hip_joint"
    type="revolute">
    <origin
      xyz="-0.0189500000000021 0.0015000129743382 -0.0384999935106054"
      rpy="0 0 0" />
    <parent
      link="back_right_abd_link" />
    <child
      link="br_upper_hip_link" />
    <axis
      xyz="0 -0.999999999999967 0" />
    <limit
      lower="-0.78"
      upper="0.78"
      effort="100"
      velocity="100" />
  </joint>
  <link
    name="br_lower_hip_link">
    <inertial>
      <origin
        xyz="0.0408428906970656 0.000114346399404774 -0.109436565906788"
        rpy="0 0 0" />
      <mass
        value="0.0304267158750394" />
      <inertia
        ixx="2.23538167215228E-05"
        ixy="-3.3815476149948E-11"
        ixz="9.83775958603362E-06"
        iyy="2.8309614326812E-05"
        iyz="2.3245437158317E-09"
        izz="6.72053293335597E-06" />
    </inertial>
    <visual>
      <origin
        xyz="0 0 0"
        rpy="0 0 0" />
      <geometry>
        <mesh
          filename="package://stoch_two__abduction_spring_urdf/meshes/br_lower_hip_link.STL" />
      </geometry>
      <material
        name="">
        <color
          rgba="0.898039215686275 0.917647058823529 0.929411764705882 1" />
      </material>
    </visual>
    <collision>
      <origin
        xyz="0 0 0"
        rpy="0 0 0" />
      <geometry>
        <mesh
          filename="package://stoch_two__abduction_spring_urdf/meshes/br_lower_hip_link.STL" />
      </geometry>
    </collision>
  </link>
  <joint
    name="br_lower_hip_joint"
    type="continuous">
    <origin
      xyz="-0.0848528137451056 -0.00449997807963978 -0.0848528149021529"
      rpy="0 0 0" />
    <parent
      link="br_upper_hip_link" />
    <child
      link="br_lower_hip_link" />
    <axis
      xyz="0 -0.999999999999967 0" />
  </joint>
  <link
    name="spring_br">
    <inertial>
      <origin
        xyz="0.00083379 5.4632E-09 -0.021195"
        rpy="0 0 0" />
      <mass
        value="0.02" />
      <inertia
        ixx="3.8642E-08"
        ixy="2.7204E-15"
        ixz="-1.0554E-08"
        iyy="5.6208E-08"
        iyz="9.1877E-15"
        izz="2.0563E-08" />
    </inertial>
    <visual>
      <origin
        xyz="0 0 0"
        rpy="0 0 0" />
      <geometry>
        <mesh
          filename="package://stoch_two__abduction_spring_urdf/meshes/spring_br.STL" />
      </geometry>
      <material
        name="">
        <color
          rgba="0.79216 0.81961 0.93333 1" />
      </material>
    </visual>
    <collision>
      <origin
        xyz="0 0 0"
        rpy="0 0 0" />
      <geometry>
        <mesh
          filename="package://stoch_two__abduction_spring_urdf/meshes/spring_br.STL" />
      </geometry>
    </collision>
  </link>
  <joint
    name="prismatic_br"
    type="prismatic">
    <origin
      xyz="0.059274 0.00020003 -0.12142"
      rpy="0 0 0" />
    <parent
      link="br_lower_hip_link" />
    <child
      link="spring_br" />
    <axis
      xyz="-0.54591 0 0.83784" />
    <limit
      lower="-0.001"
      upper="0.001"
      effort="100"
      velocity="100" />
    <dynamics
      damping="500" />
  </joint>
  <link
    name="br_upper_knee_link">
    <inertial>
      <origin
        xyz="0.00500656360669922 3.54259543922097E-09 -0.0137554204584841"
        rpy="0 0 0" />
      <mass
        value="0.00159686614944862" />
      <inertia
        ixx="4.10819722952701E-07"
        ixy="-3.38623859381081E-14"
        ixz="1.31588432510285E-07"
        iyy="5.05602172304796E-07"
        iyz="1.05196228239126E-13"
        izz="9.71777485763218E-08" />
    </inertial>
    <visual>
      <origin
        xyz="0 0 0"
        rpy="0 0 0" />
      <geometry>
        <mesh
          filename="package://stoch_two__abduction_spring_urdf/meshes/br_upper_knee_link.STL" />
      </geometry>
      <material
        name="">
        <color
          rgba="0.792156862745098 0.819607843137255 0.933333333333333 1" />
      </material>
    </visual>
    <collision>
      <origin
        xyz="0 0 0"
        rpy="0 0 0" />
      <geometry>
        <mesh
          filename="package://stoch_two__abduction_spring_urdf/meshes/br_upper_knee_link.STL" />
      </geometry>
    </collision>
  </link>
  <joint
    name="motor_br_upper_knee_joint"
    type="revolute">
    <origin
      xyz="0.0160499999340941 0.00150001297458144 -0.0384999944004666"
      rpy="0 0 0" />
    <parent
      link="back_right_abd_link" />
    <child
      link="br_upper_knee_link" />
    <axis
      xyz="0 -0.999999999999967 0" />
    <limit
      lower="-1.22"
      upper="1.22"
      effort="100"
      velocity="100" />
  </joint>
  <link
    name="br_lower_knee_link">
    <inertial>
      <origin
        xyz="-0.0641657548478241 1.12397453289059E-08 -0.0434626955538746"
        rpy="0 0 0" />
      <mass
        value="0.0317424901804665" />
      <inertia
        ixx="2.47126559508663E-05"
        ixy="9.17917494176537E-12"
        ixz="-3.54933310703673E-05"
        iyy="7.77365346235786E-05"
        iyz="6.37801298491404E-12"
        izz="5.30714924079863E-05" />
    </inertial>
    <visual>
      <origin
        xyz="0 0 0"
        rpy="0 0 0" />
      <geometry>
        <mesh
          filename="package://stoch_two__abduction_spring_urdf/meshes/br_lower_knee_link.STL" />
      </geometry>
      <material
        name="">
        <color
          rgba="0.792156862745098 0.819607843137255 0.933333333333333 1" />
      </material>
    </visual>
    <collision>
      <origin
        xyz="0 0 0"
        rpy="0 0 0" />
      <geometry>
        <mesh
          filename="package://stoch_two__abduction_spring_urdf/meshes/br_lower_knee_link.STL" />
      </geometry>
    </collision>
  </link>
  <joint
    name="br_lower_knee_joint"
    type="continuous">
    <origin
      xyz="0.013680805728384 -0.00799999031959545 -0.0375877068934591"
      rpy="0 0 0" />
    <parent
      link="br_upper_knee_link" />
    <child
      link="br_lower_knee_link" />
    <axis
      xyz="0 0.999999999999967 0" />
  </joint>
</robot>
